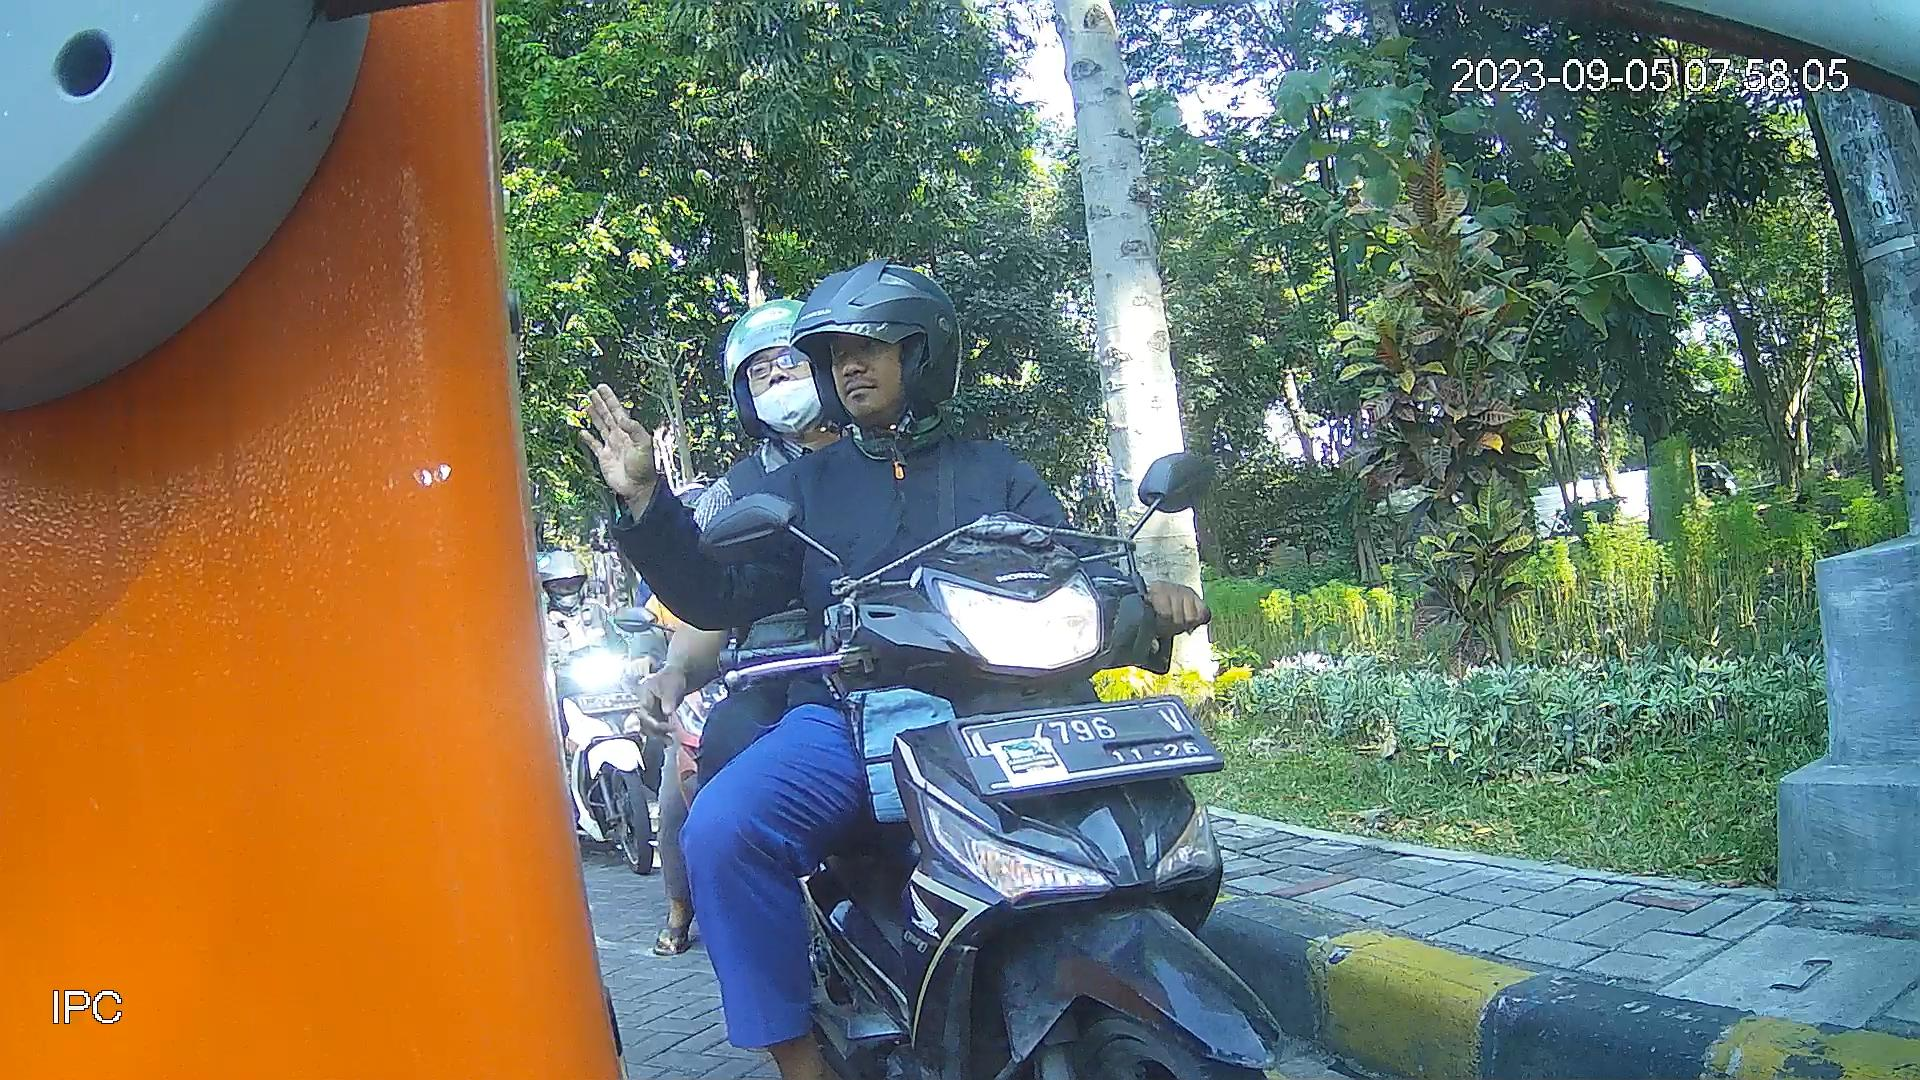plat: (943, 692, 1233, 803)
